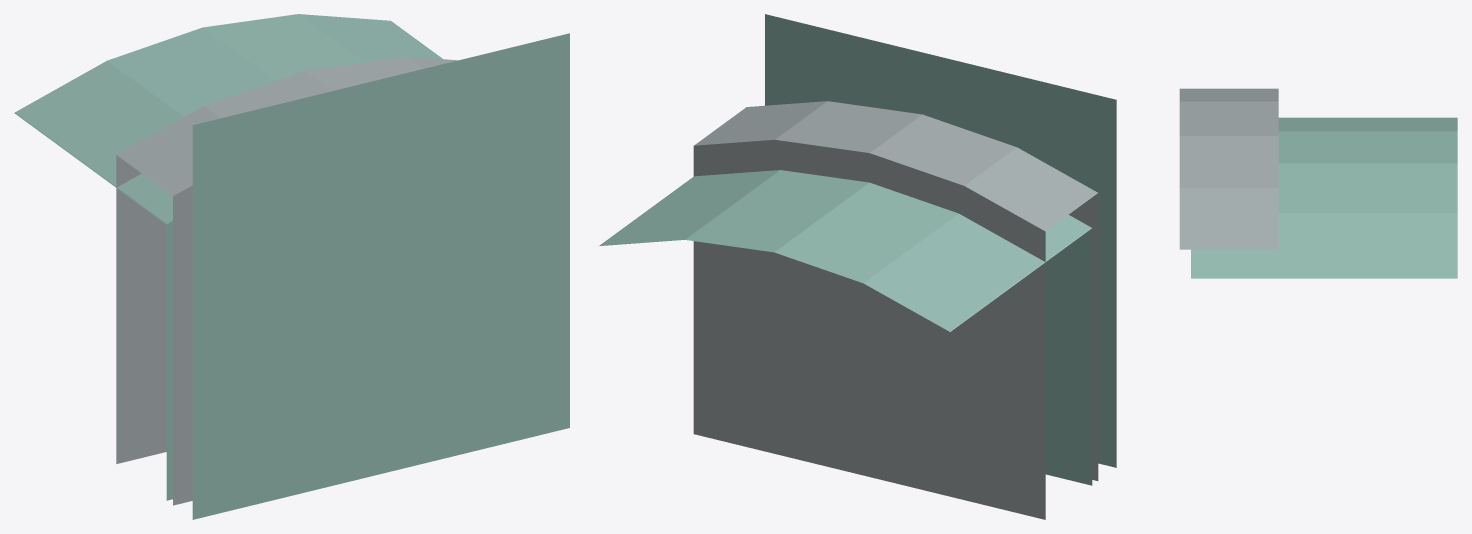
Rendered from cell_172.obj.
The picture shows the model from 3 angles, left to right: view 1: azimuth 30°, elevation 25°; view 2: azimuth 150°, elevation 25°; view 3: azimuth 270°, elevation 25°; orthographic projection. The views are drawn at different scales.
Size of the model in its own units: 1 by 1 by 0.82.
